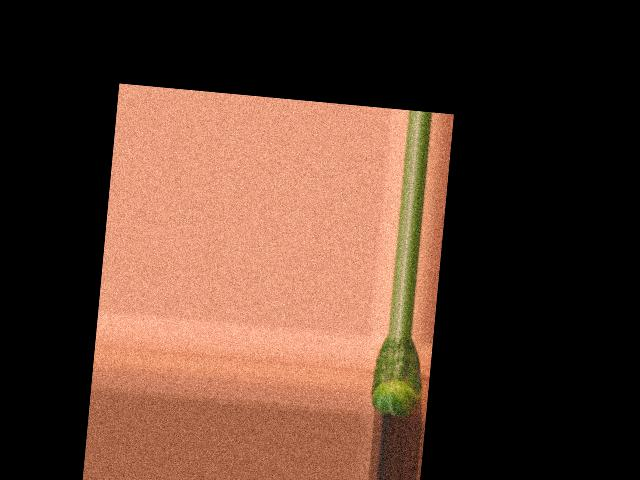cucumber: (368, 334, 426, 418)
